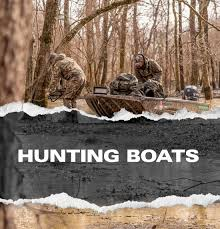boat: (44, 82, 213, 123)
